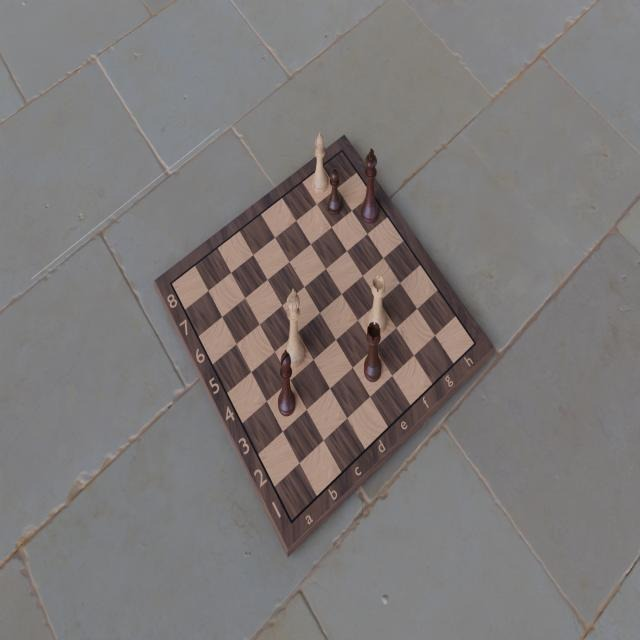black-bishop: (276, 349, 298, 419)
black-king: (360, 147, 380, 225)
black-pawn: (327, 166, 344, 217)
black-rook: (363, 319, 383, 384)
white-bishop: (310, 129, 329, 194)
white-king: (282, 285, 306, 367)
white-rook: (368, 271, 388, 336)
